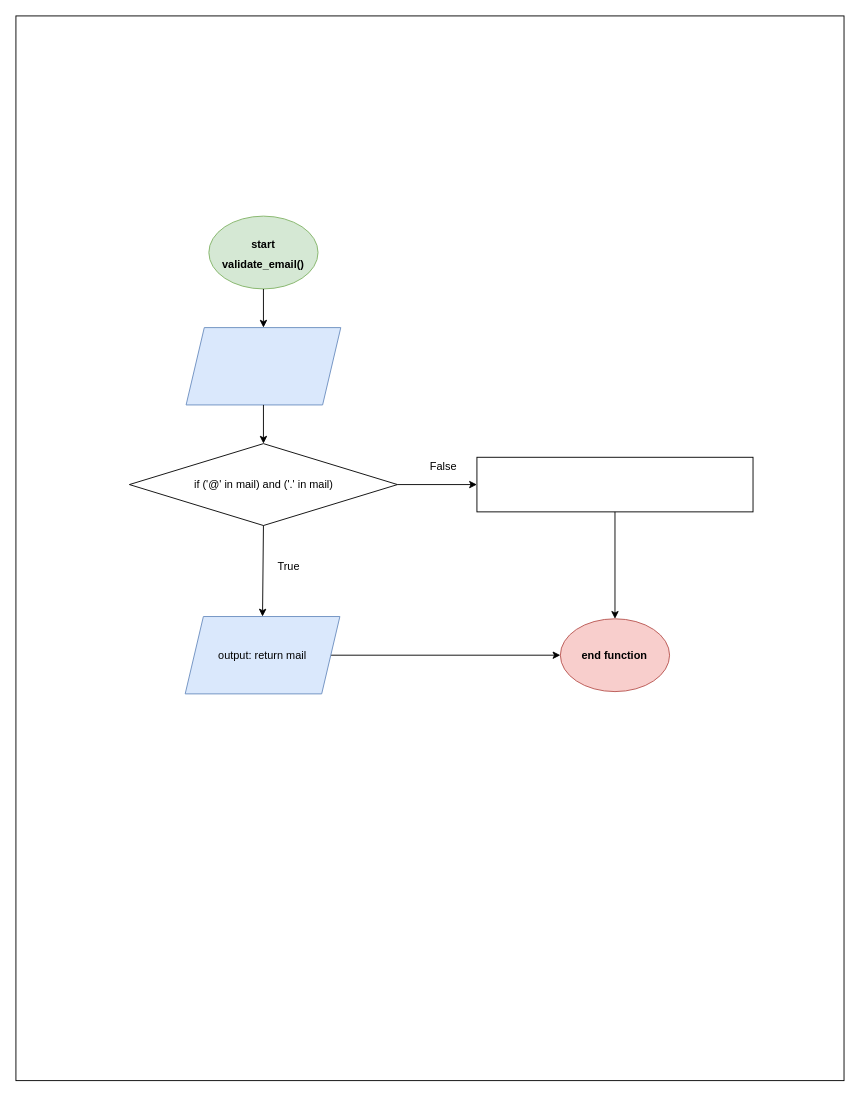
Image size: 860x1097. Some labels were removed from this diagram. Here are the shapes that lost their labels. From the top down, the centre of each, then its label:
the point at 263,366: input: self, mail
the point at 614,484: raise SyntaxError("Ugyldig email - mangler @ eller .")
